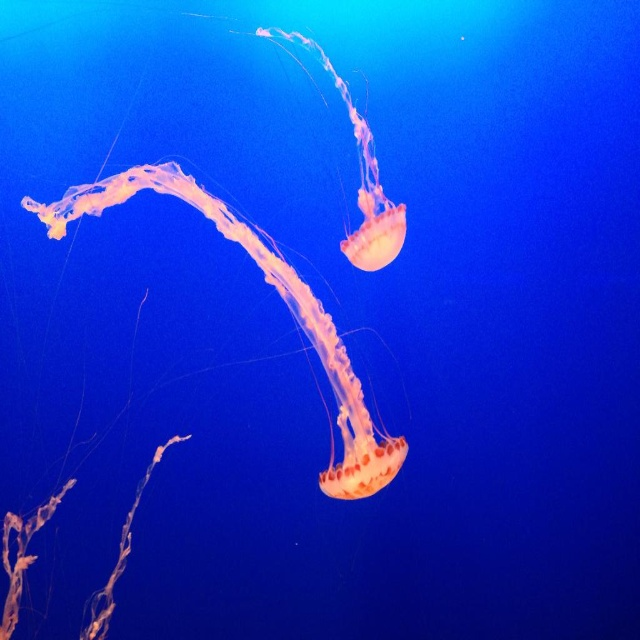Jellyfish: (18, 151, 412, 502), (163, 7, 407, 271)
